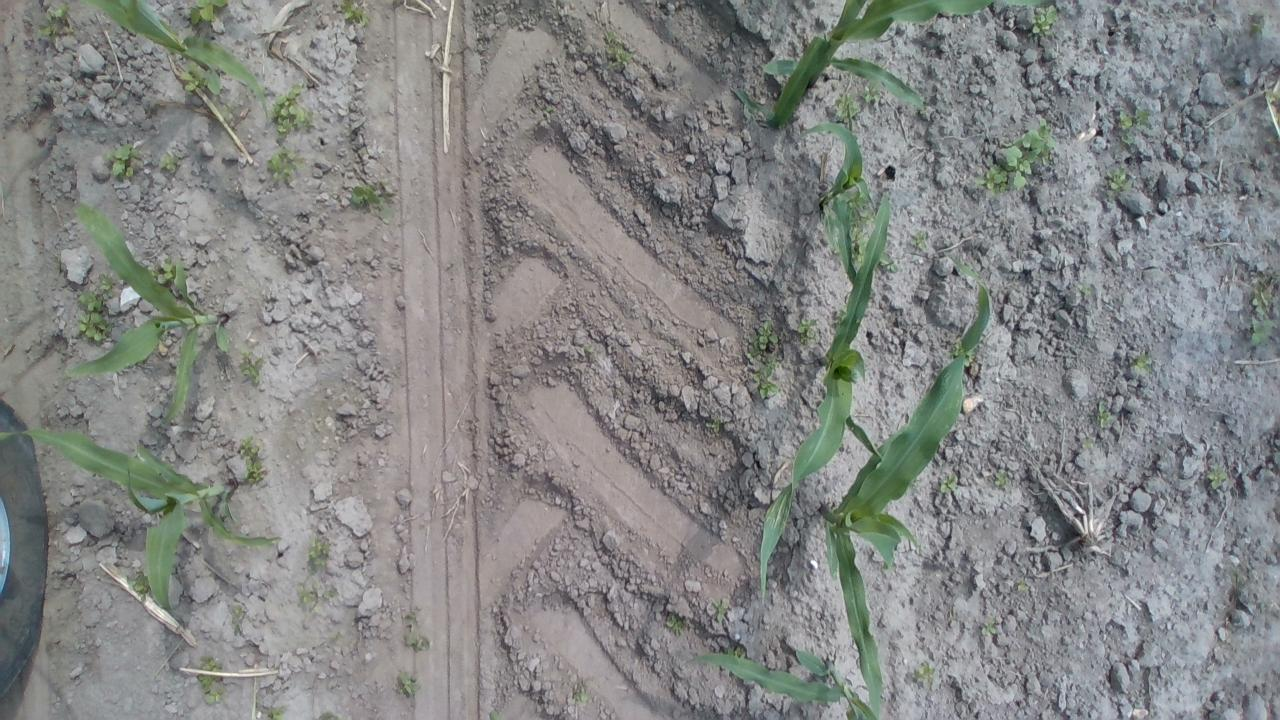Maize: (820, 249, 991, 720), (758, 193, 892, 606), (0, 428, 284, 617), (728, 0, 1044, 132), (66, 200, 234, 432), (82, 0, 270, 127), (679, 649, 879, 720), (793, 121, 874, 288)
Weeds: (974, 116, 1060, 197), (270, 82, 314, 138), (1249, 268, 1276, 346), (400, 602, 434, 652), (264, 145, 306, 184), (1117, 108, 1155, 150), (104, 138, 142, 180), (296, 579, 338, 612), (76, 308, 115, 343), (198, 654, 225, 704), (238, 347, 268, 386), (752, 358, 778, 400), (752, 318, 778, 358), (834, 90, 864, 124), (304, 532, 334, 565), (189, 0, 228, 25), (1031, 3, 1060, 36), (338, 0, 372, 28), (1104, 166, 1132, 197), (396, 669, 423, 700), (850, 218, 867, 264), (242, 456, 268, 486), (797, 316, 822, 346), (348, 187, 382, 209), (911, 660, 937, 688), (179, 62, 202, 92), (846, 190, 870, 218), (940, 469, 963, 498), (124, 568, 149, 594), (604, 44, 632, 67), (42, 1, 72, 22), (1248, 8, 1269, 36), (76, 289, 104, 310), (1208, 462, 1228, 490), (708, 596, 728, 622), (36, 24, 74, 37), (908, 229, 930, 251), (237, 436, 259, 458), (98, 272, 116, 298), (1098, 400, 1114, 429), (1129, 354, 1151, 375), (157, 152, 180, 172), (862, 79, 881, 103), (231, 604, 245, 636), (262, 703, 288, 720), (667, 613, 687, 635), (879, 252, 900, 272), (584, 342, 602, 364), (572, 680, 588, 702), (981, 618, 998, 638), (379, 206, 396, 224), (162, 255, 175, 278), (704, 416, 721, 433), (993, 472, 1010, 488), (604, 29, 622, 44), (946, 341, 964, 356), (726, 646, 746, 658), (1076, 282, 1091, 298), (1265, 88, 1280, 103), (1016, 576, 1030, 592), (834, 304, 848, 320), (1079, 439, 1097, 451), (220, 102, 232, 118), (543, 106, 555, 120), (966, 351, 976, 367), (318, 709, 332, 720), (1230, 563, 1240, 578), (379, 177, 392, 188), (332, 631, 342, 642), (488, 710, 498, 720), (918, 109, 932, 114)
